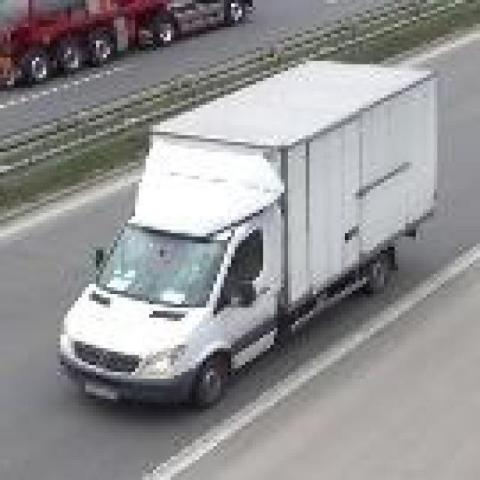van: (62, 68, 440, 412)
